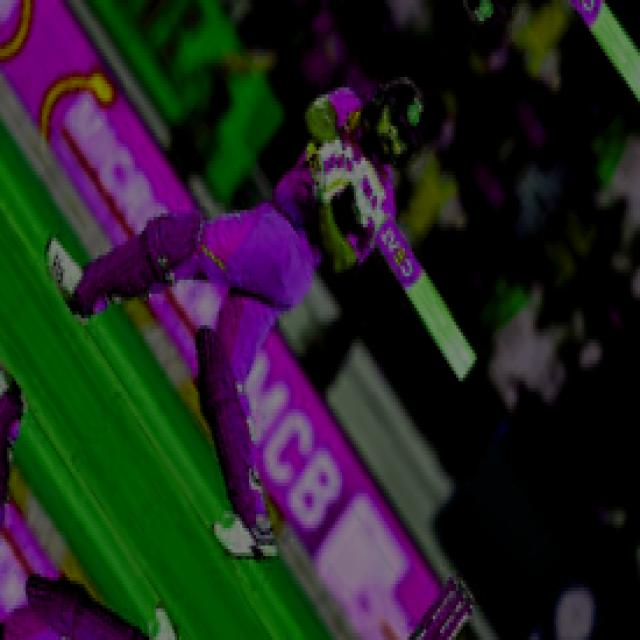toe: (449, 345, 476, 384)
